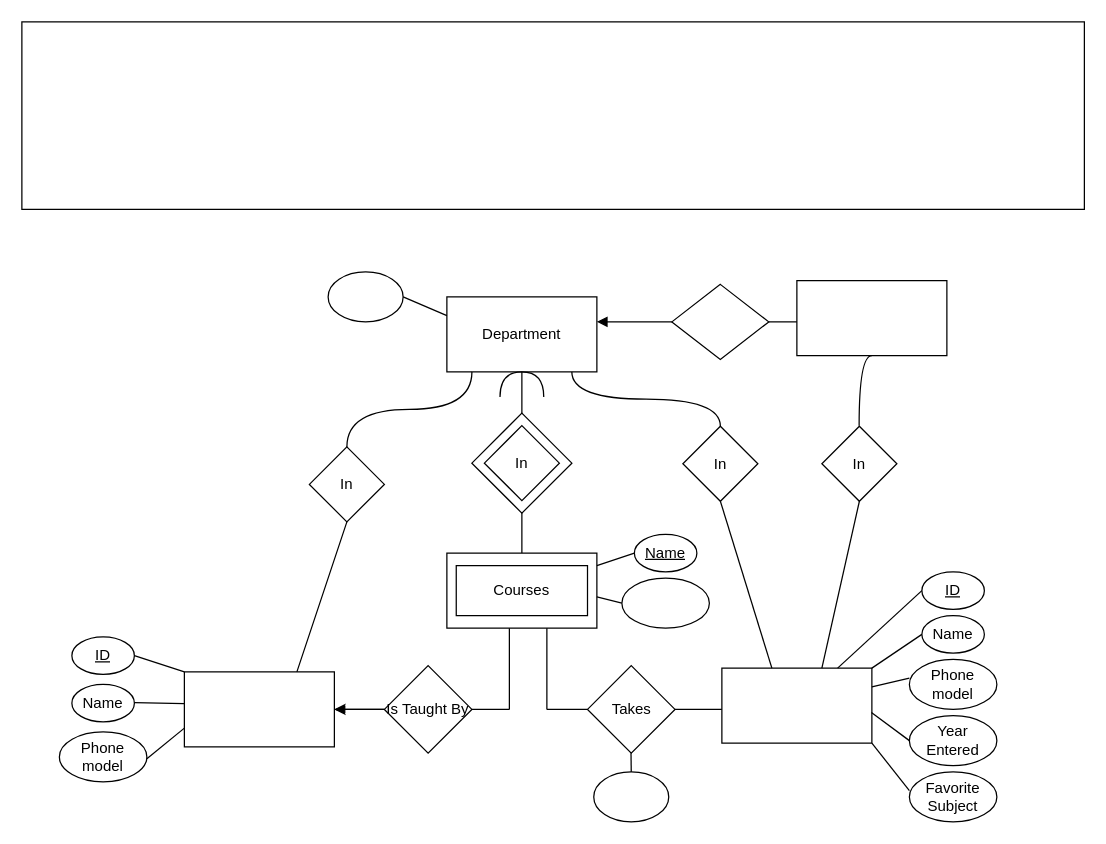
The diagram is 1106 pixels wide and 844 high, and some of its shapes have lost their labels. Each missing label, with the centre of its shape:
Belongs to: point 720,321
Club: point 871,317
Head: point 365,296
SEE A TA OR PROF BEFORE SUBMITTING: point 552,115
Students: point 796,705
Teachers: point 258,709
Times Taken: point 630,796
Years Taught: point 665,602
